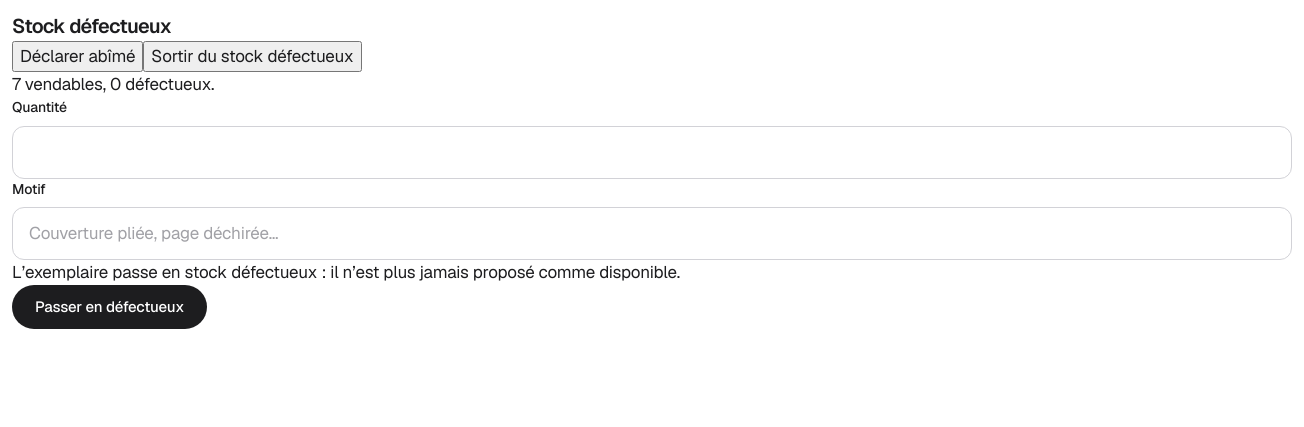
FormulaireDefectueux › bloque la sortie quand il n y a aucun défectueux
This screenshot has width=1304, height=427.
What coordinates should you click on to do the following:
click the button "Sortir du stock défectueux"
I would click on:
 (252, 57)
Its box is [143,41,362,72].
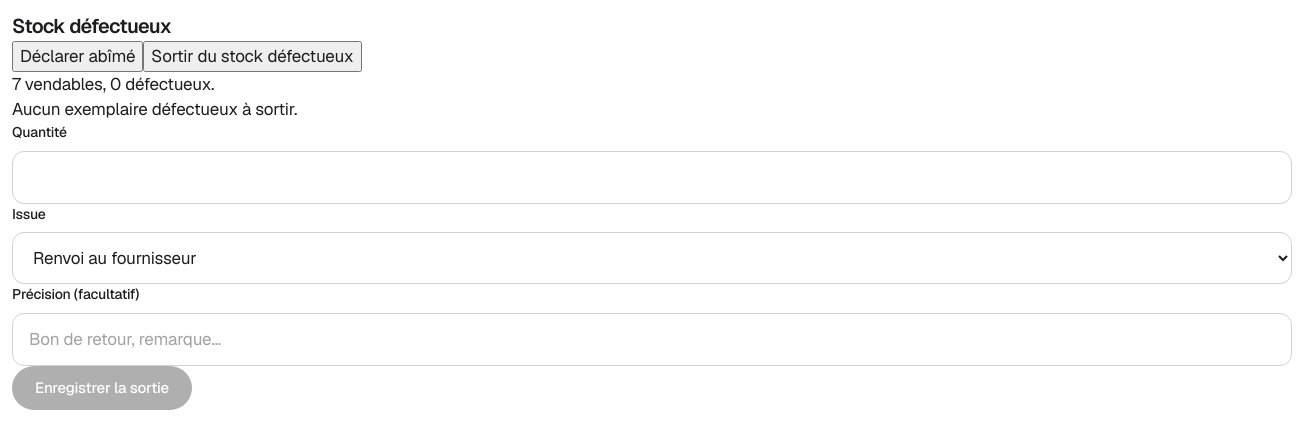
Check: the text "Aucun exemplaire défectueux à sortir." is shown, box [12,98,297,120]
Check: the button "Enregistrer la sortie" is disabled, box [12,366,192,410]
